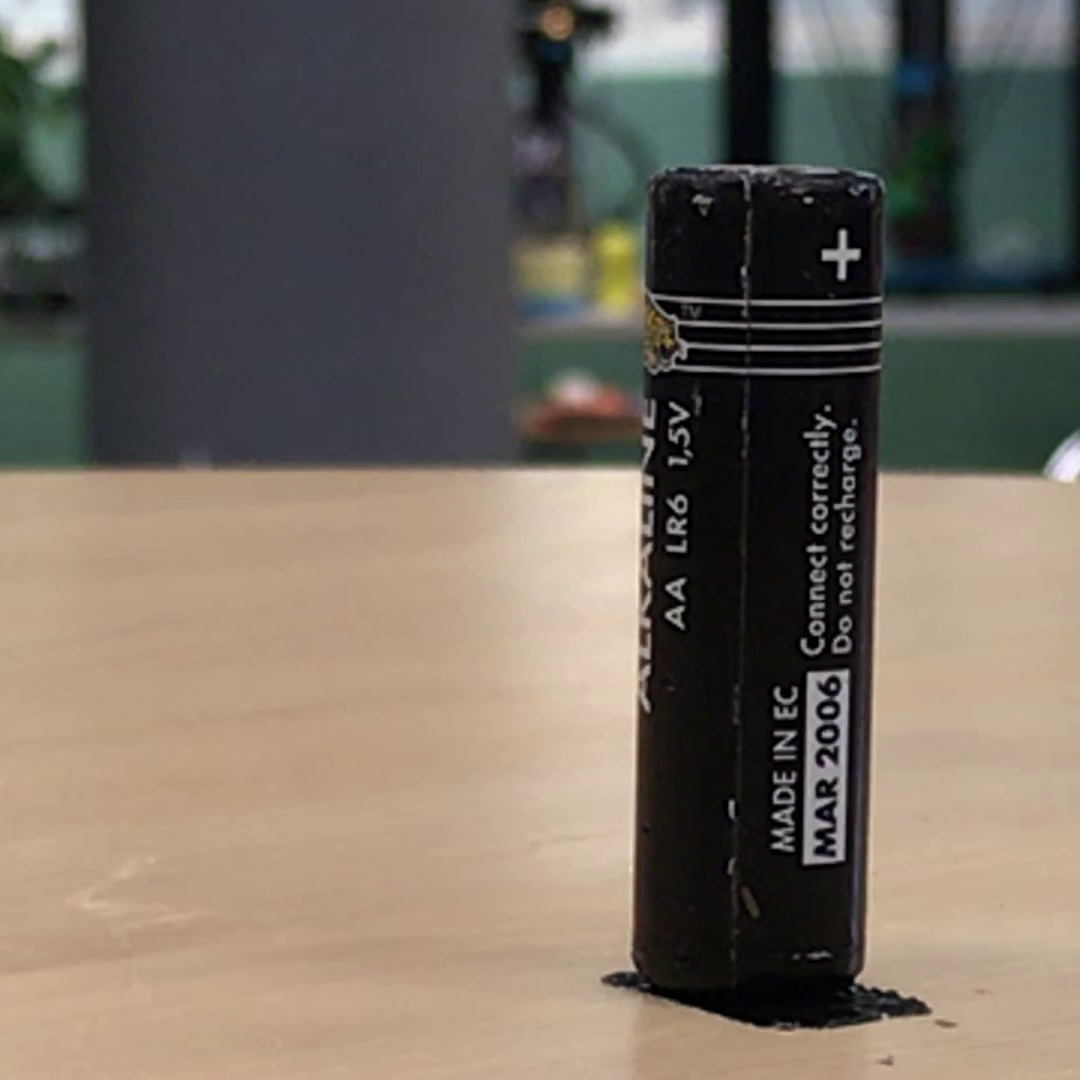keyword: (658, 485, 696, 562)
